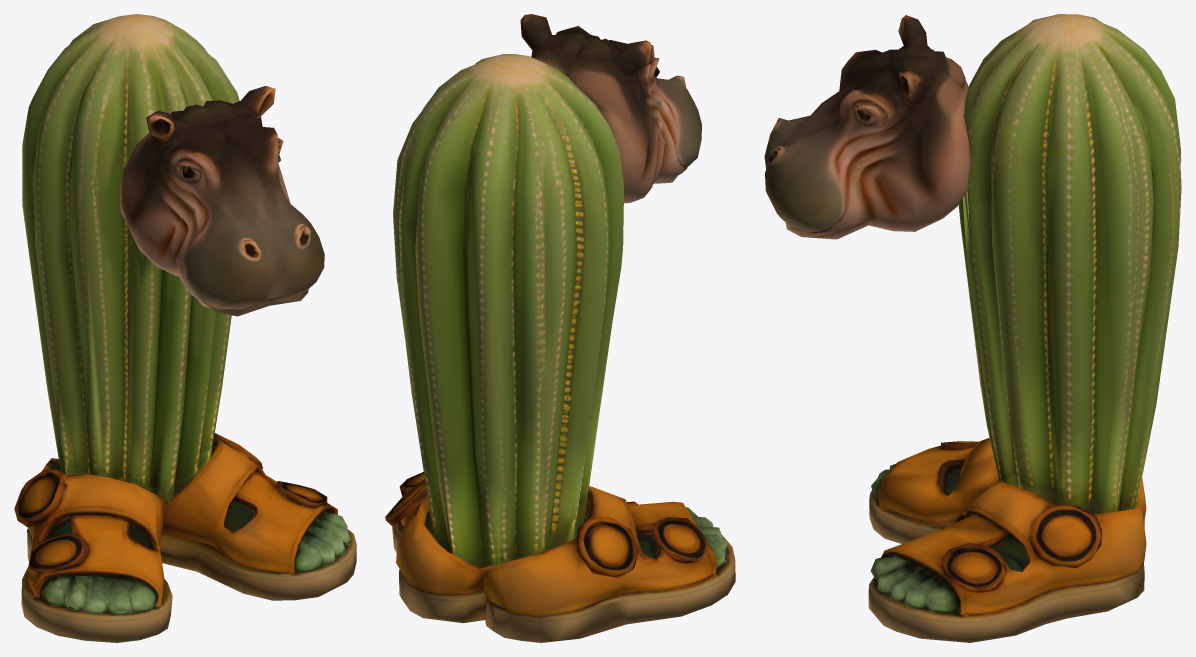
File: cacto_hipopo_LP.fbx
3 renders of one model, left to right at view 1: azimuth 30°, elevation 25°; view 2: azimuth 150°, elevation 25°; view 3: azimuth 270°, elevation 25°, orthographic. The views are drawn at different scales.
Parts seen in each view (by area): view 1: texture_pbr_v1; view 2: texture_pbr_v1; view 3: texture_pbr_v1.
Boxes of the visible parts, x1=… form: texture_pbr_v1: x1=14, y1=14, x2=356, y2=642; texture_pbr_v1: x1=385, y1=14, x2=735, y2=642; texture_pbr_v1: x1=764, y1=14, x2=1181, y2=642.
Bounding box in the file's own units: 63.8 × 103 × 71.12.
